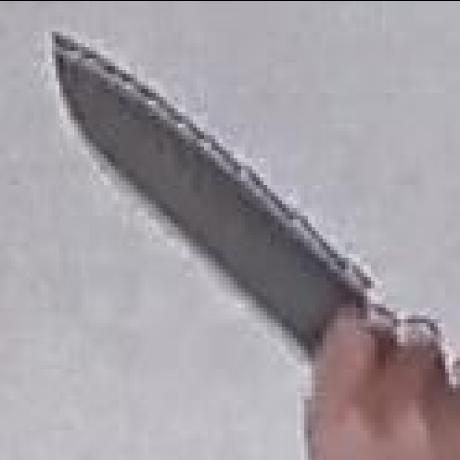weapon: (53, 32, 377, 350)
